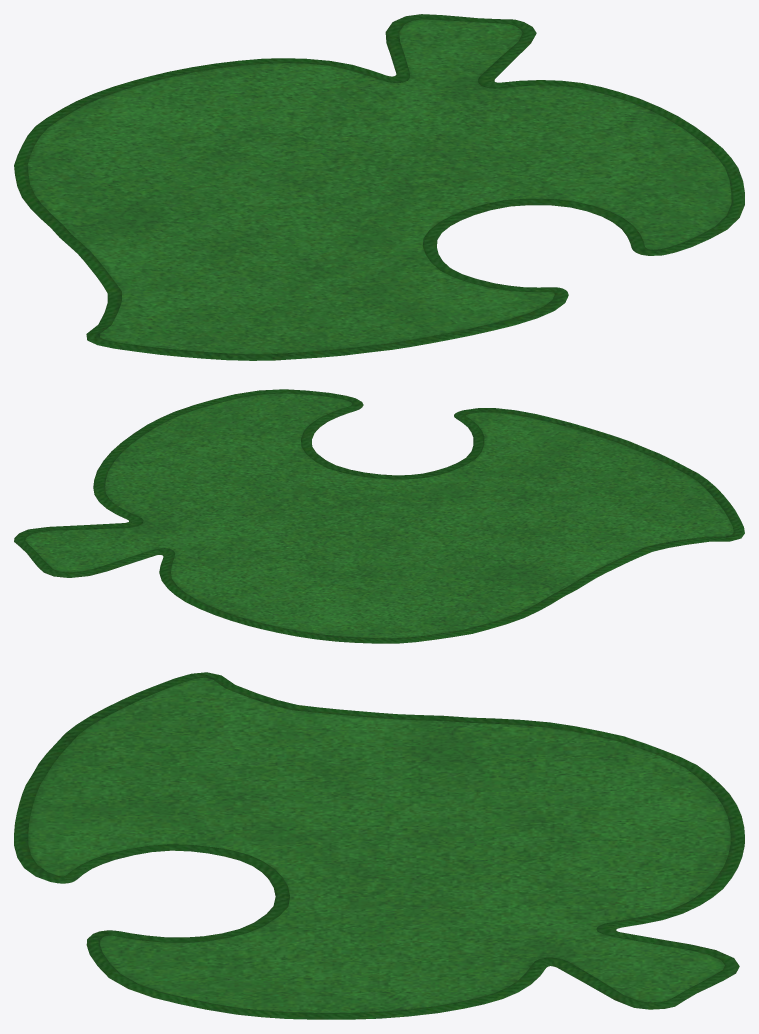
The model's file is RugOtherLeafM00.glb.
3 views of the same model, one above another, from view 1: azimuth 30°, elevation 25°; view 2: azimuth 150°, elevation 25°; view 3: azimuth 270°, elevation 25° (orthographic). The views are drawn at different scales.
Visible parts, largest first — view 1: Edge__mMain; view 2: Edge__mMain; view 3: Edge__mMain.
Boxes of the visible parts, <box> form: Edge__mMain: <box>14,14,744,360</box>; Edge__mMain: <box>14,389,744,643</box>; Edge__mMain: <box>14,672,744,1019</box>.
Bounding box in the file's own units: 28.79 × 0.03 × 25.59.
Materials: 1 (1 with a texture image).
